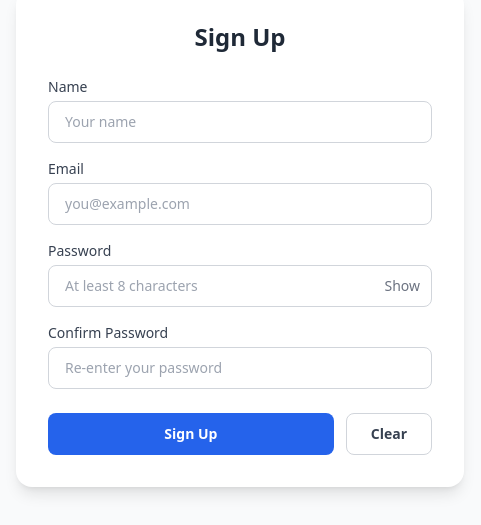
Scenario: SignupForm › shows error when passwords do not match
The width and height of the screenshot is (481, 525).
Type "John" into the field labelled "Name" at (240, 122), box top-left (48, 101), bottom-right (432, 143)
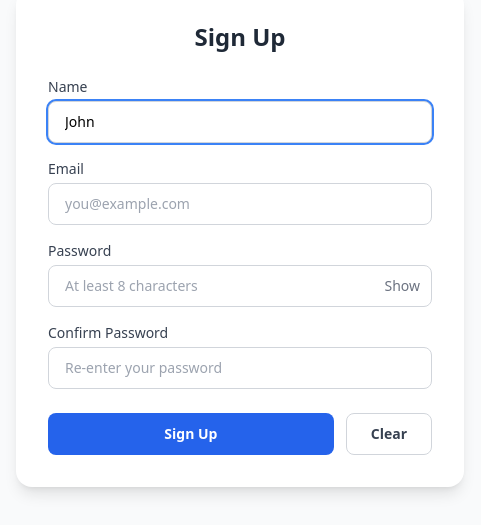
Type "john@example.com" into the field labelled "Email" at (240, 204), box top-left (48, 183), bottom-right (432, 225)
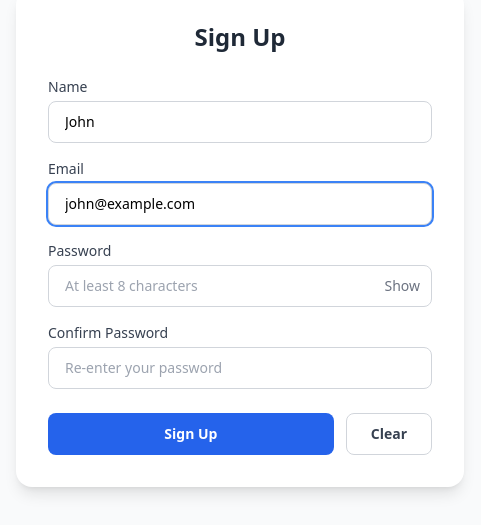
Type "password123" into the password field labelled "Password" at (240, 286), box top-left (48, 265), bottom-right (432, 307)
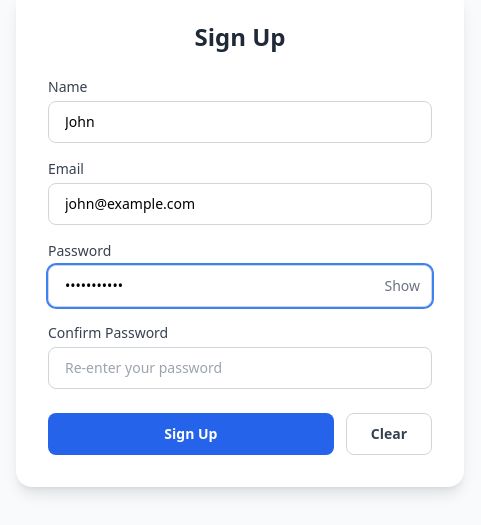
Type "different99" into the password field labelled "Confirm Password" at (240, 368), box top-left (48, 347), bottom-right (432, 389)
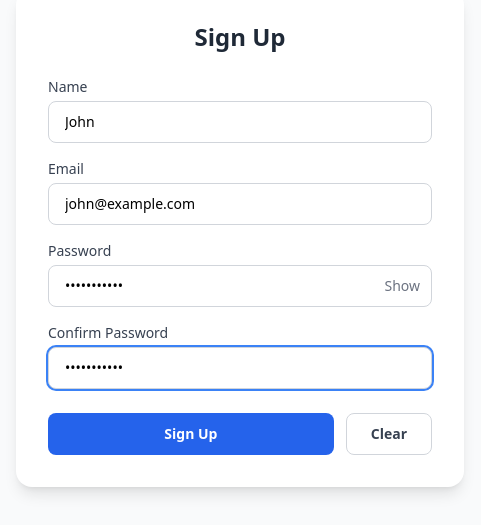
Click the button "Sign Up" at (191, 434), box top-left (48, 413), bottom-right (334, 455)
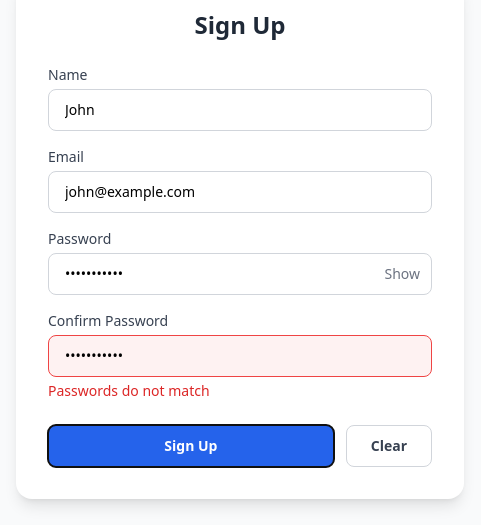
Check: the text "Passwords do not match" is shown, box top-left (48, 381), bottom-right (210, 400)
